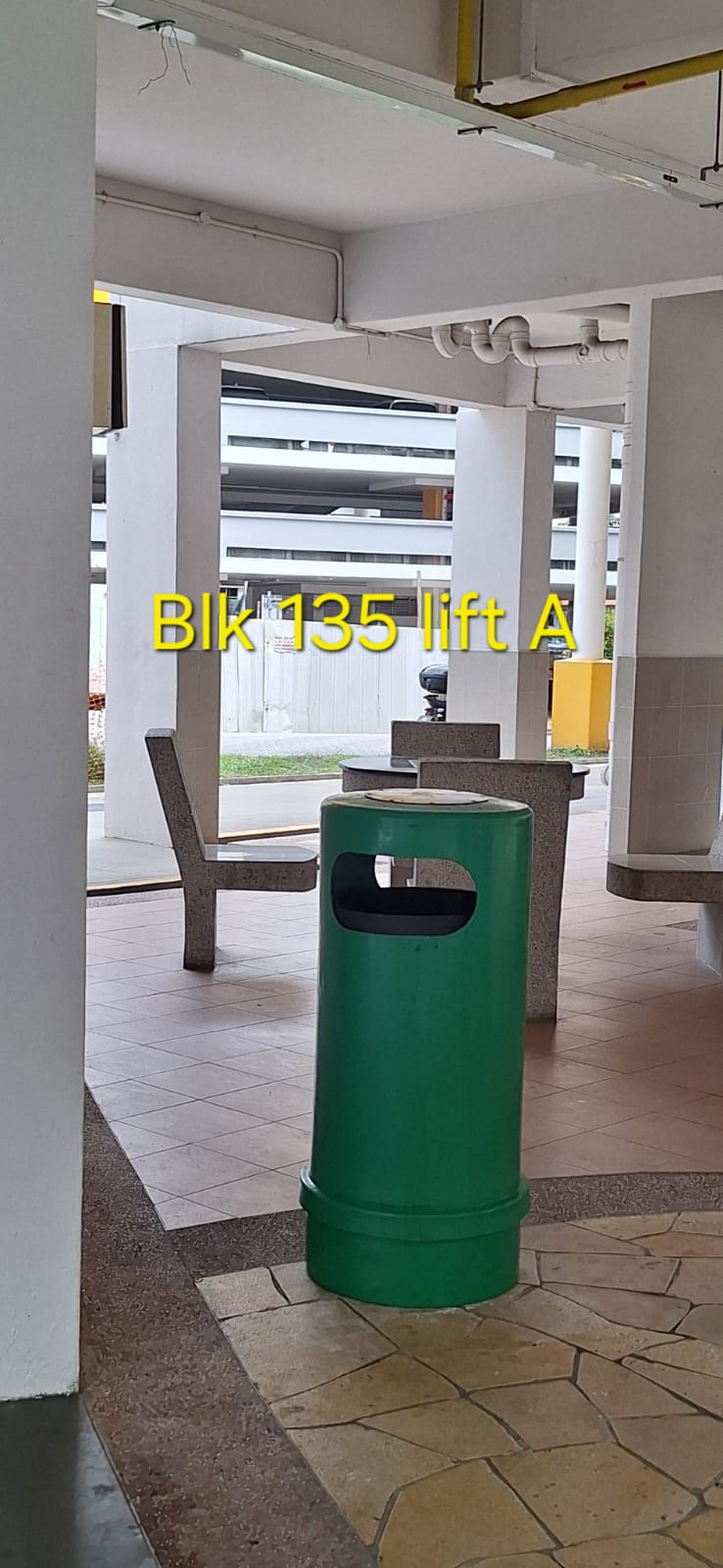bin_empty: (300, 785, 533, 1307)
